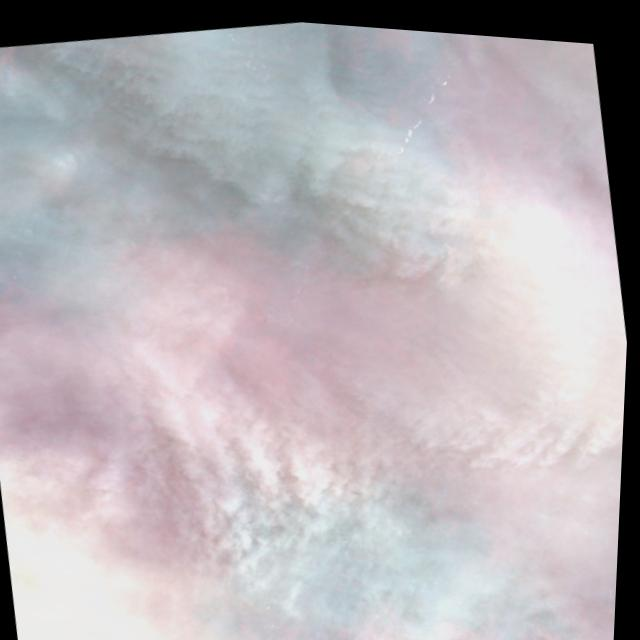fire: (303, 18, 518, 293), (459, 573, 611, 640)
